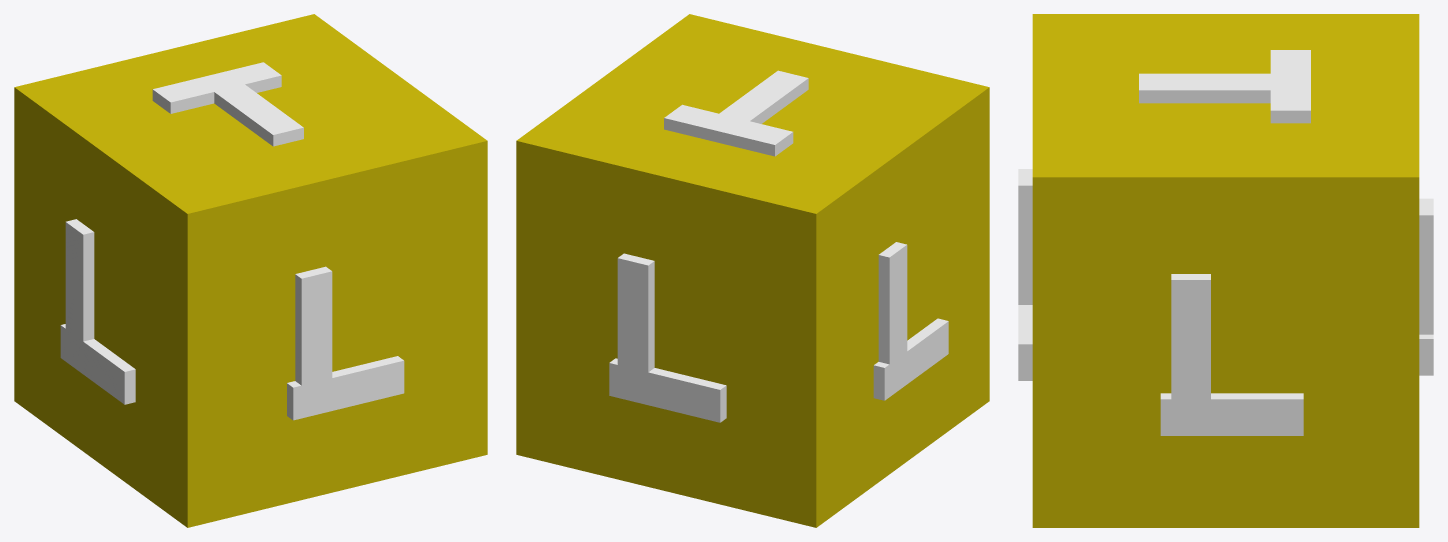
Rendered from TARGET_1.glb.
3 renders of one model, left to right at view 1: azimuth 30°, elevation 25°; view 2: azimuth 150°, elevation 25°; view 3: azimuth 270°, elevation 25°, orthographic. The views are drawn at different scales.
Visible parts, largest first — view 1: TARGET_HIGH_1; view 2: TARGET_HIGH_1; view 3: TARGET_HIGH_1.
Part boxes in pixels (box(x1,y1,x2,y2)): TARGET_HIGH_1: box(14, 14, 487, 527); TARGET_HIGH_1: box(516, 14, 989, 527); TARGET_HIGH_1: box(1018, 14, 1433, 527).
Size of the model in its own units: 2.15 by 2.15 by 2.15.
